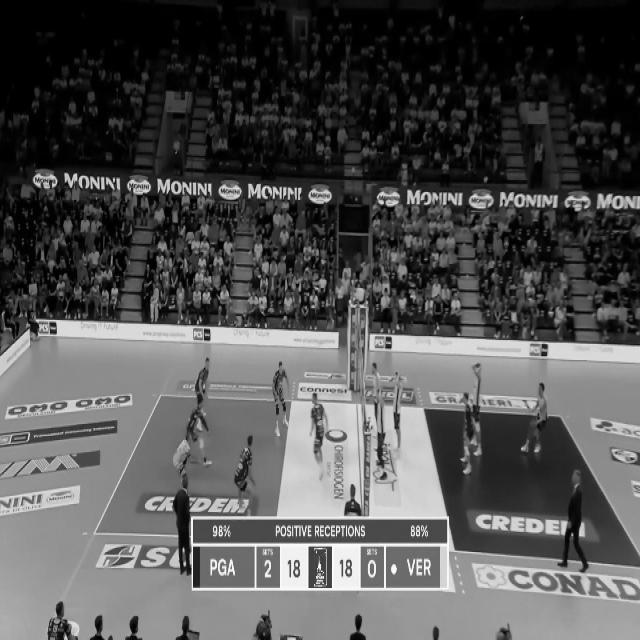volleyball court: (91, 392, 639, 570)
